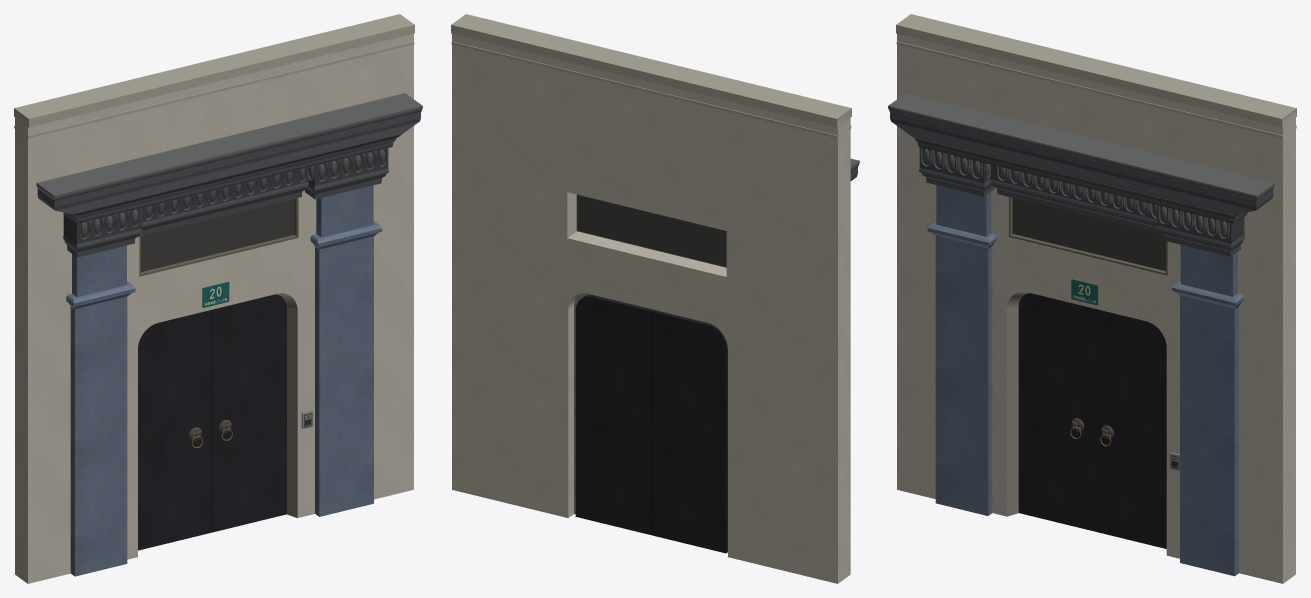
Rendered from xuhui-shaanxi-222-no20-residence-gate-raw.glb.
3 renders of one model, left to right at view 1: azimuth 30°, elevation 25°; view 2: azimuth 150°, elevation 25°; view 3: azimuth 330°, elevation 25°, orthographic.
Parts seen in each view (by area): view 1: 陕西南路222弄20号住宅院门; view 2: 陕西南路222弄20号住宅院门; view 3: 陕西南路222弄20号住宅院门.
Part boxes in pixels (bbox=[...]): 陕西南路222弄20号住宅院门: bbox=[14, 14, 422, 583]; 陕西南路222弄20号住宅院门: bbox=[451, 14, 859, 583]; 陕西南路222弄20号住宅院门: bbox=[888, 14, 1296, 583].
Size of the model in its own units: 4.05 by 4.67 by 0.571.
20 materials, 3 textured.
